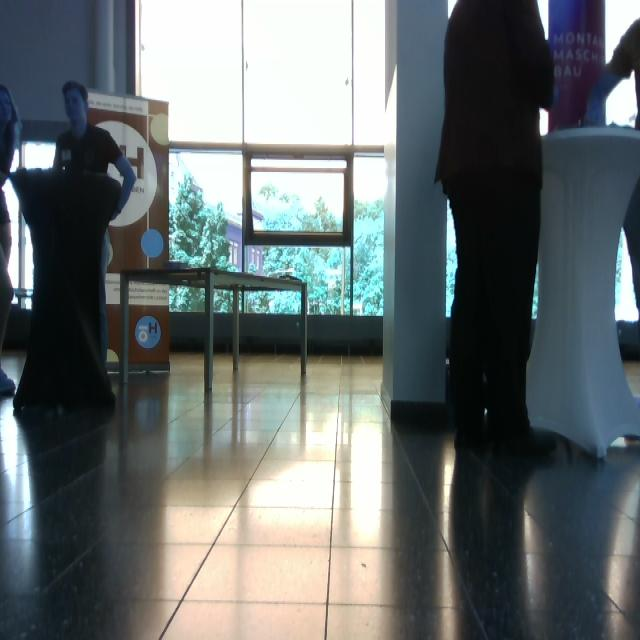light bulb: (22, 141, 57, 170)
person: (434, 1, 557, 457), (52, 81, 137, 373), (1, 84, 23, 396)
pillar: (526, 124, 640, 458), (382, 1, 450, 418)
tiled floor: (2, 349, 639, 638)
window: (135, 1, 388, 320)
